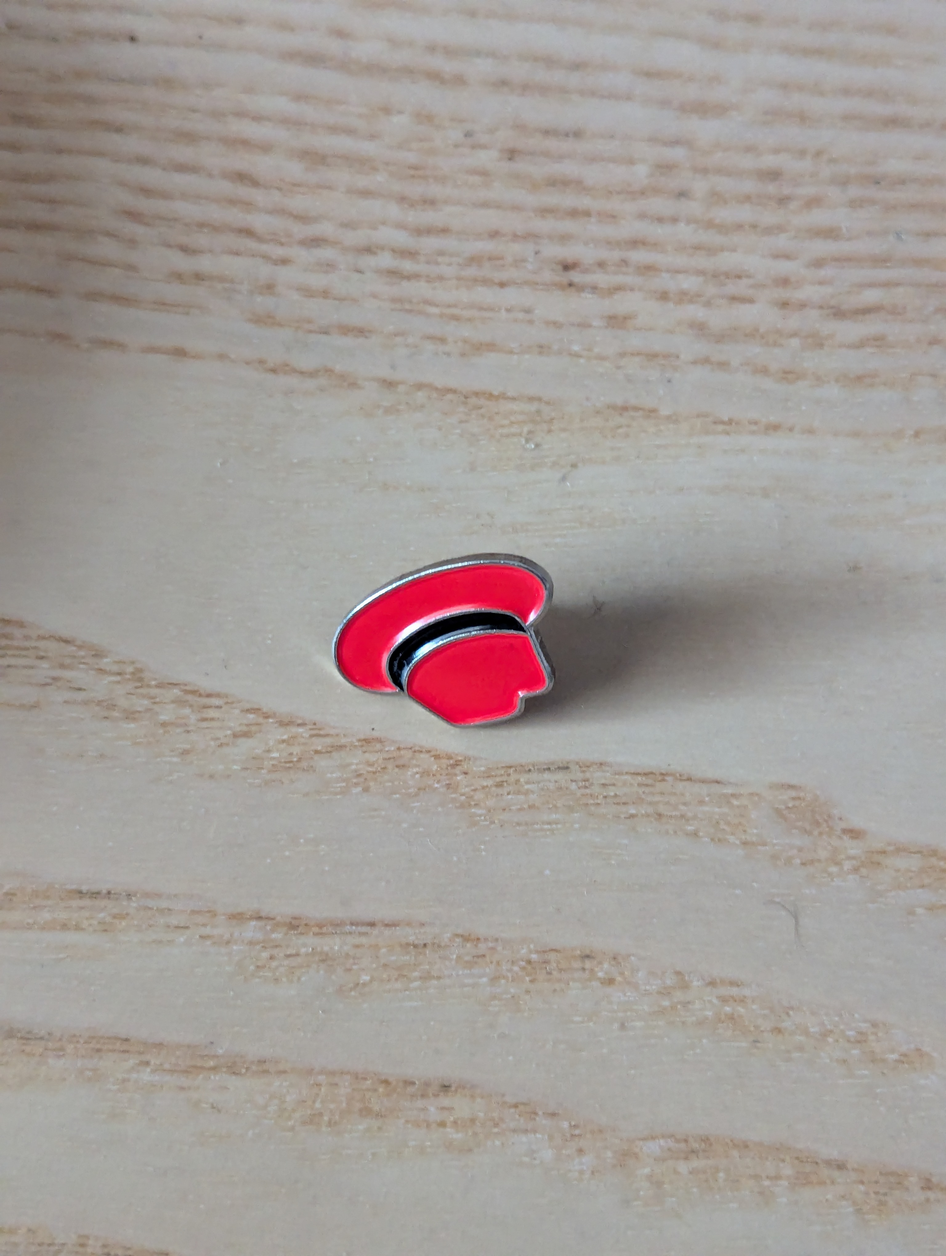Red-Hat: (252, 477, 650, 828)
